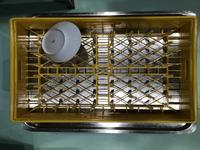Inclined_dish: (42, 21, 81, 62)
